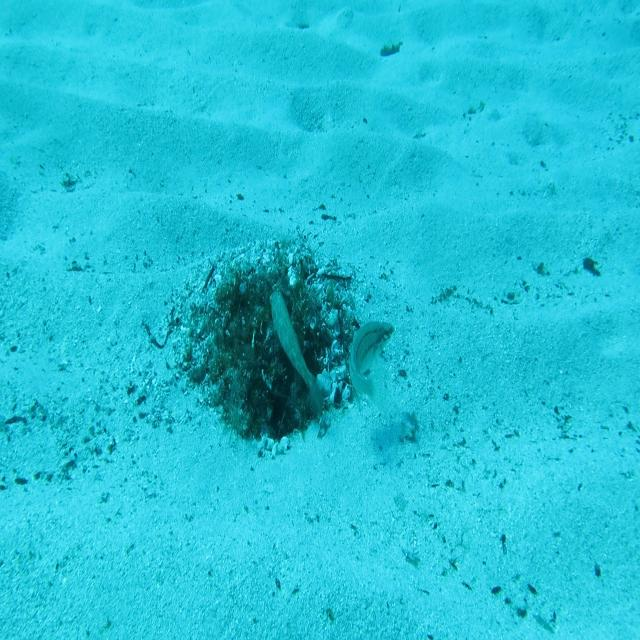FAN: (266, 286, 329, 422)
core_nest: (240, 286, 296, 323)
female: (345, 318, 396, 422)
nest: (158, 222, 373, 476)
vegetation: (380, 40, 403, 60)
